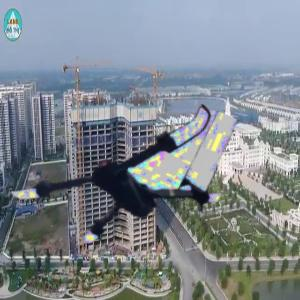drone: (17, 78, 222, 283)
